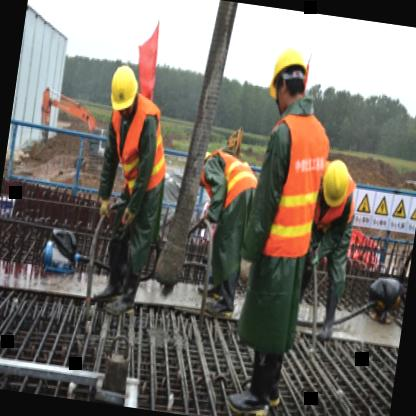helmet: (264, 38, 314, 118), (312, 154, 358, 220), (103, 59, 143, 125)
